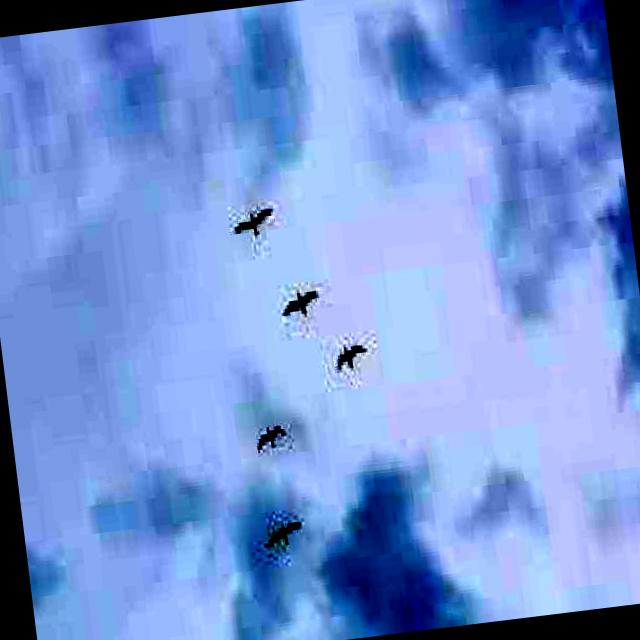bird: (220, 185, 288, 252), (248, 502, 309, 562), (244, 404, 296, 459), (273, 280, 327, 328), (325, 331, 377, 376)
